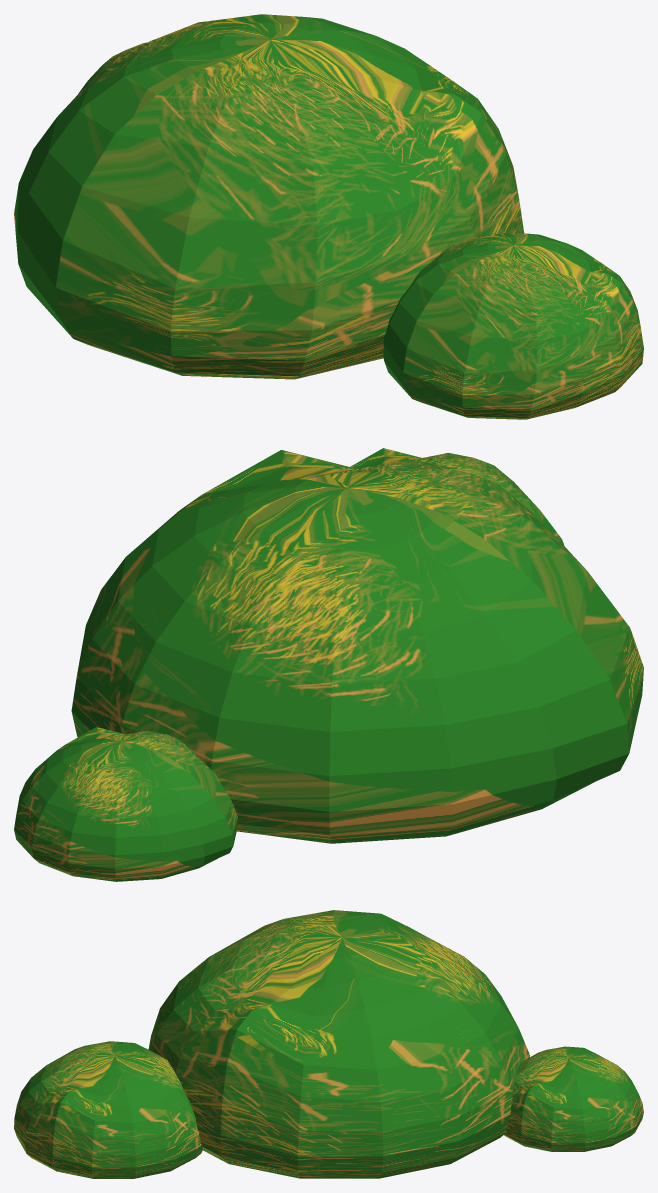
The model's file is arbusto.fbx.
The picture shows the model from 3 angles, top to bottom: view 1: azimuth 30°, elevation 25°; view 2: azimuth 150°, elevation 25°; view 3: azimuth 270°, elevation 25°; orthographic projection. The views are drawn at different scales.
Visible parts, largest first — view 1: arbol3; view 2: arbol3; view 3: arbol3.
Boxes of the visible parts, <box> form: arbol3: <box>14,14,643,419</box>; arbol3: <box>14,448,643,881</box>; arbol3: <box>14,910,643,1178</box>.
Size of the model in its own units: 114 by 57.2 by 184.
